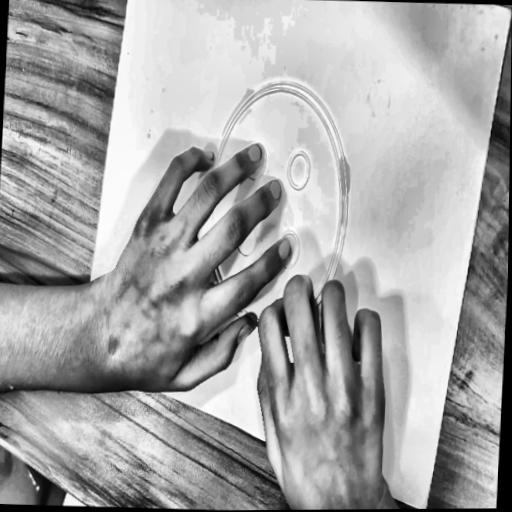bottom_left: (83, 330, 92, 344)
bottom_right: (420, 503, 428, 509)
button: (175, 47, 378, 379)
top_right: (508, 6, 512, 16)
